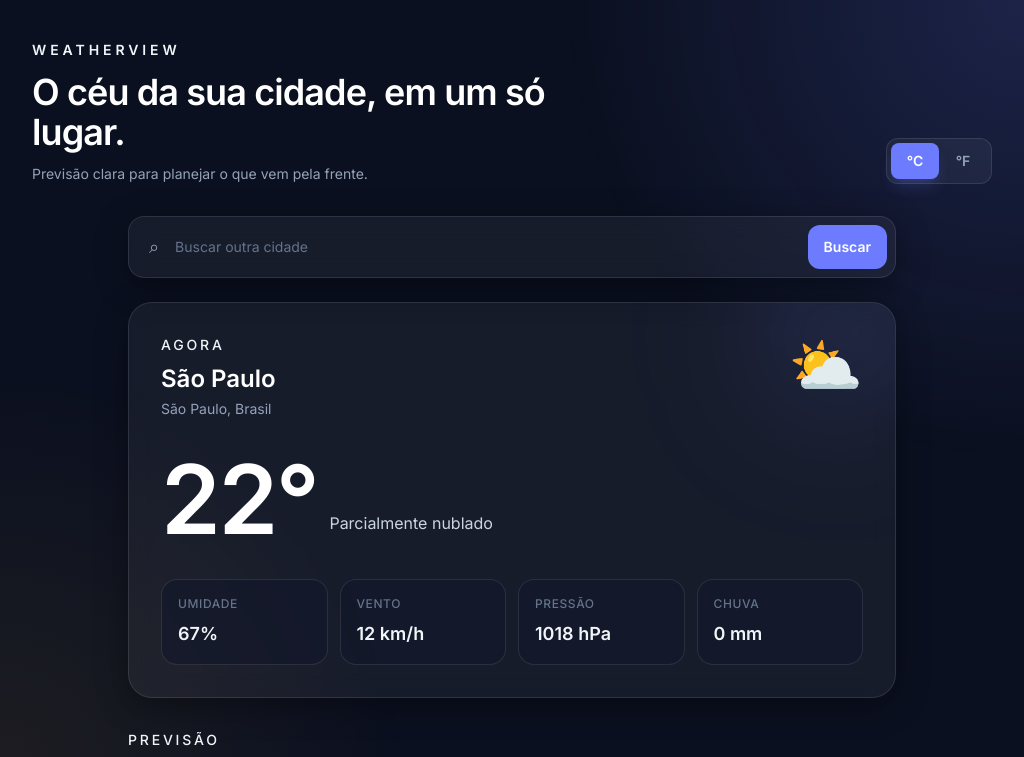
Weather App com dados demonstrativos › converte a temperatura ao alternar para Fahrenheit
Click the button "°F" at coordinates (963, 161), box [939, 143, 987, 179]
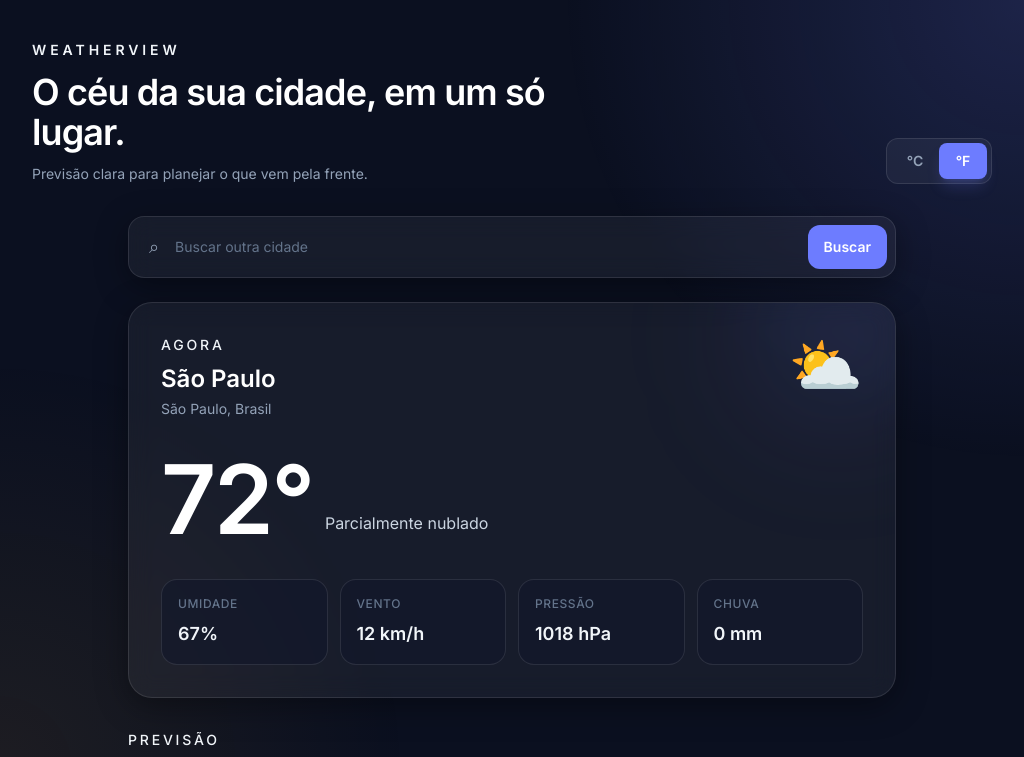
Check: the text "72°" is shown, box [161, 451, 313, 547]
